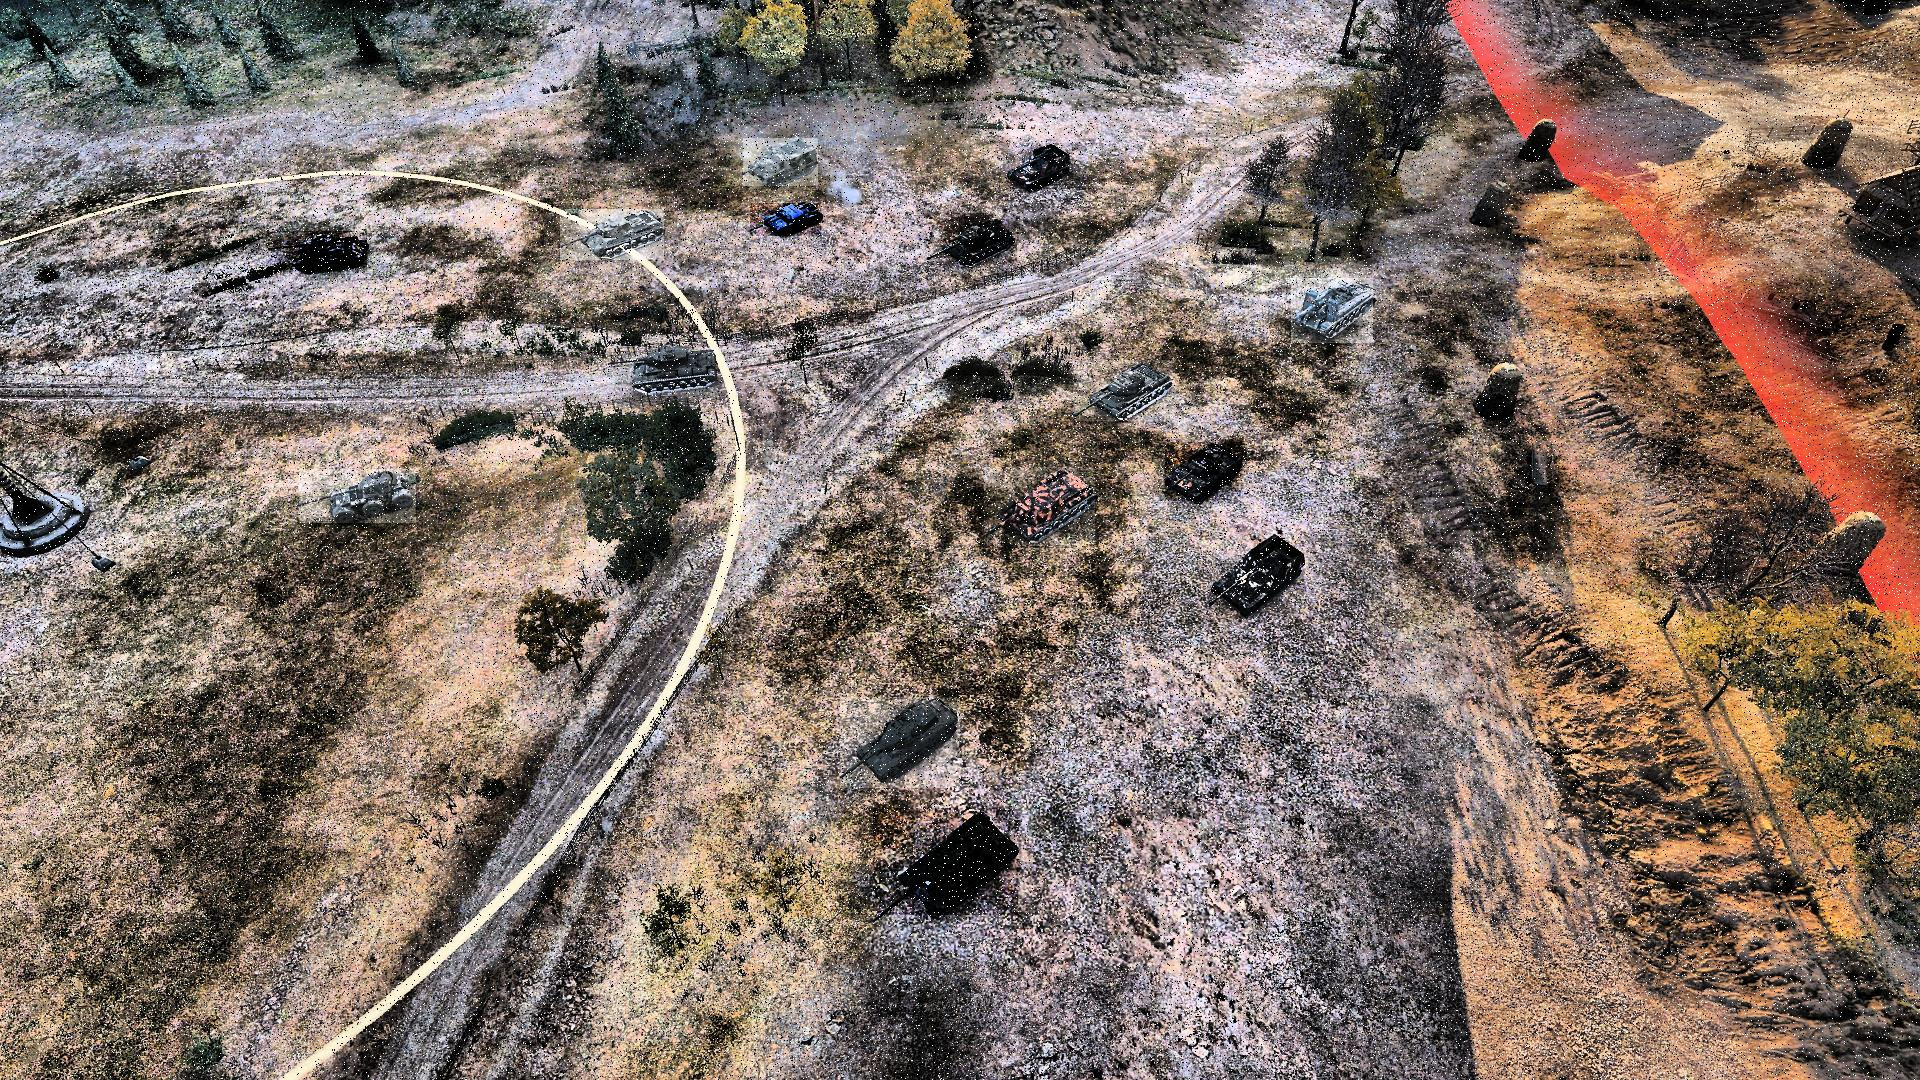military-vehicle: (873, 808, 1018, 915), (840, 696, 960, 789), (985, 467, 1096, 546), (1211, 535, 1308, 621), (299, 469, 417, 522), (1073, 361, 1175, 422), (1292, 278, 1374, 344), (607, 347, 719, 394), (560, 210, 665, 260), (928, 214, 1019, 265), (1166, 442, 1244, 501), (266, 232, 368, 273), (744, 138, 818, 186), (1006, 142, 1075, 190), (750, 203, 822, 236)
